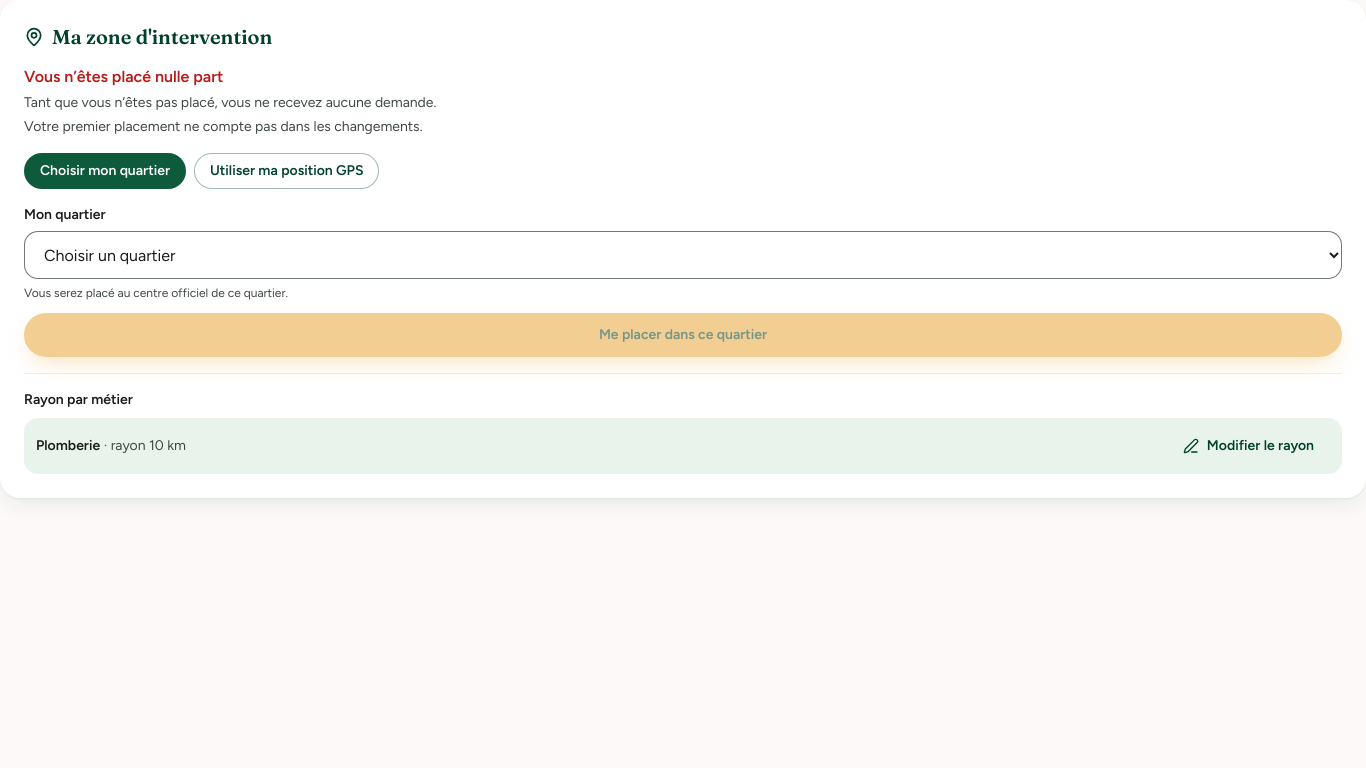
Test: ArtisanZoneSection › change le rayon d’un métier sans le retirer, plafonné au maximum du serveur
Later steps or results of the test are not shown.
Click the button "Modifier le rayon" at (1248, 446), box [1167,428,1330,464]
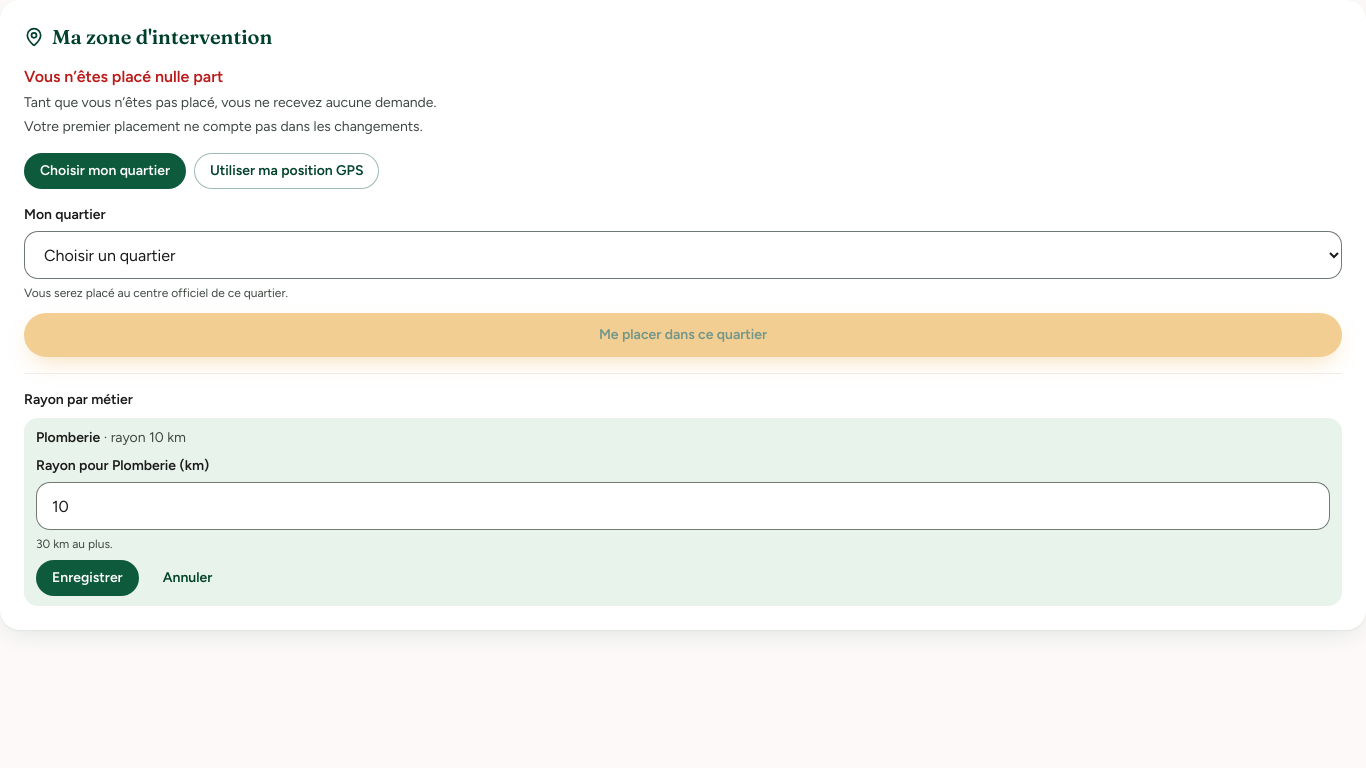
Replace the text in the number field labelled "Rayon pour Plomberie (km)" with "31" at (683, 506), box [36,482,1330,530]
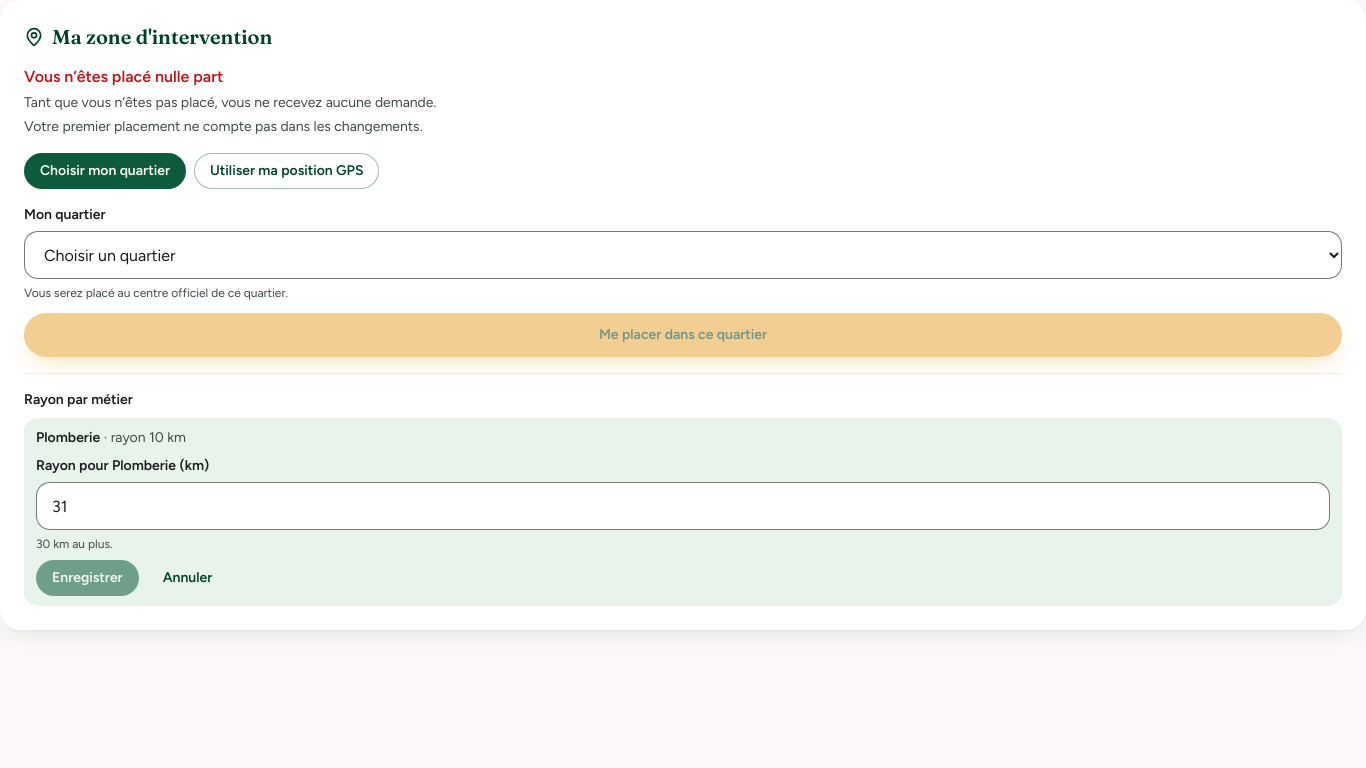
Expected: the button "Enregistrer" is disabled, [36,560,139,596]
